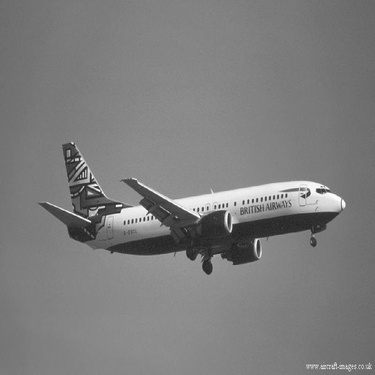airplane: (28, 117, 353, 282)
